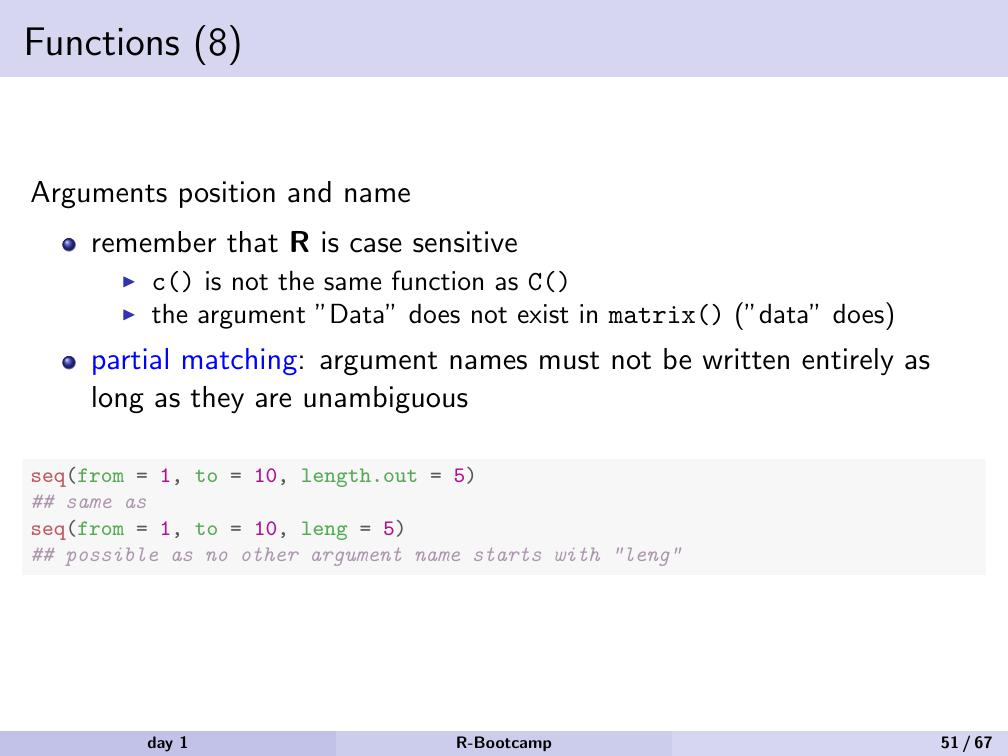Title: (17, 18, 248, 72)
